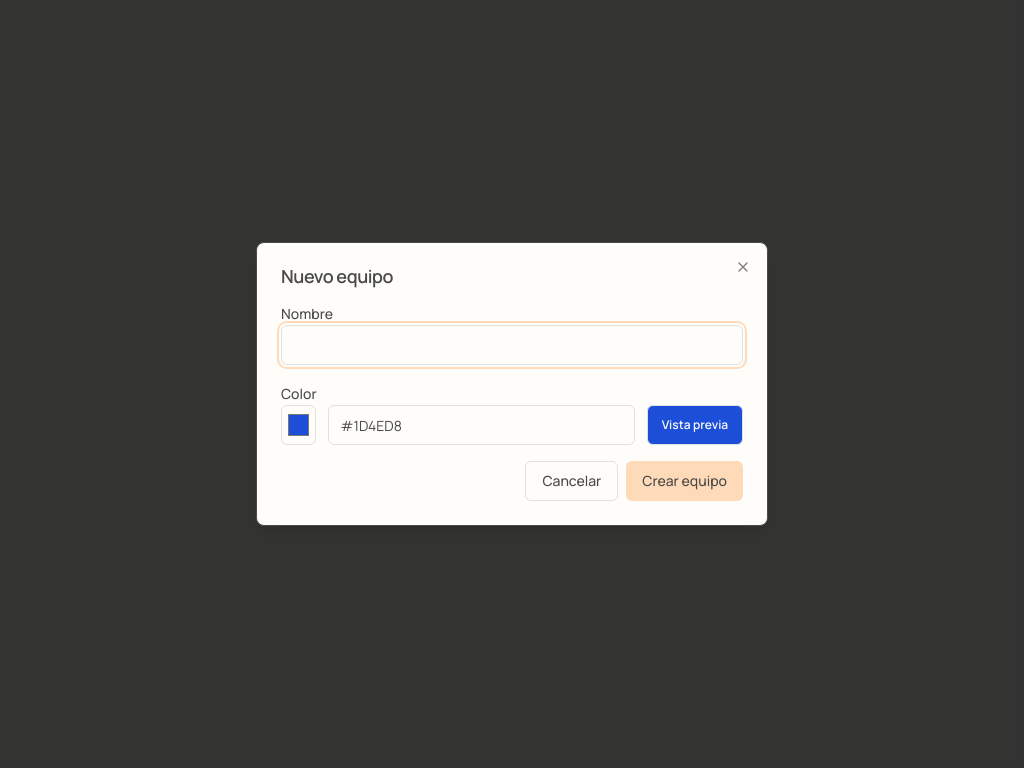
Scenario: TeamFormDialog › shows contrast warning for a low-contrast color
Replace the text in the field named "Color (HEX)" with "#FFFF00" at (481, 425), box [328,405,635,445]
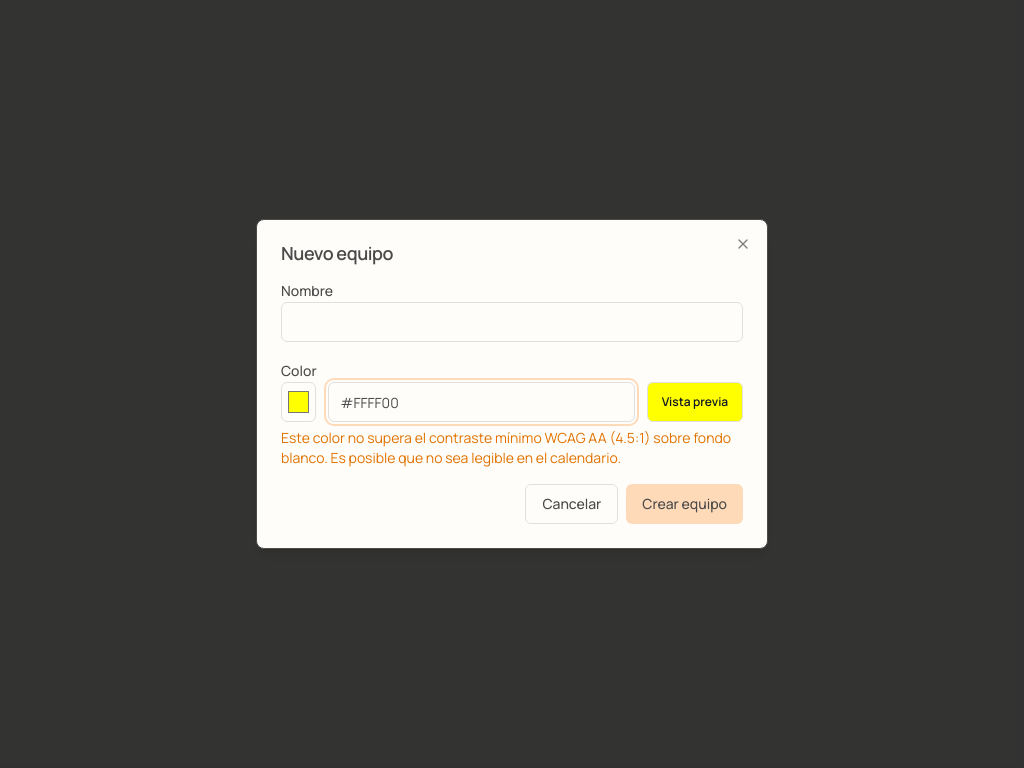
Expected: the text "no supera el contraste mínimo WCAG AA" is shown, [281,428,731,467]
